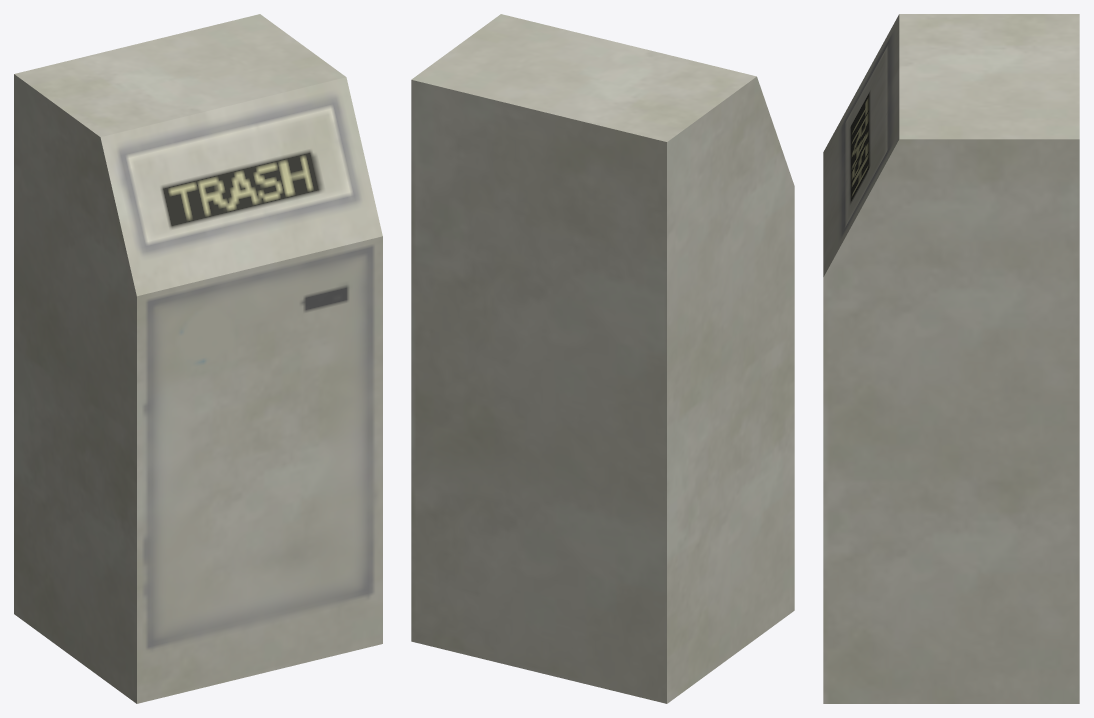
Rendered from InsideTrashType0.glb.
The picture shows the model from 3 angles, left to right: view 1: azimuth 30°, elevation 25°; view 2: azimuth 150°, elevation 25°; view 3: azimuth 270°, elevation 25°; orthographic projection. The views are drawn at different scales.
Visible parts, largest first — view 1: Trash; view 2: Trash; view 3: Trash.
Boxes of the visible parts, x1,y1,x2,y2 form: Trash: (14, 14, 382, 703); Trash: (411, 14, 794, 703); Trash: (823, 14, 1079, 703).
Size of the model in its own units: 0.8419 by 1.77 by 0.7274.
Materials: 1 (1 with a texture image).
